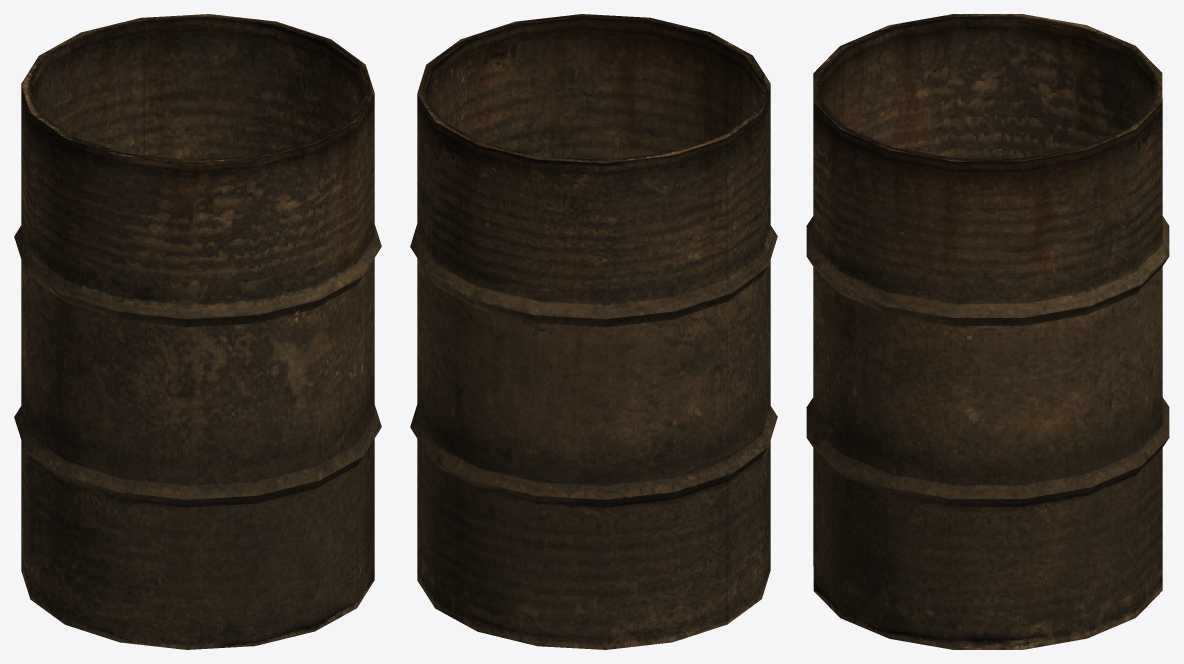
The model's file is metal_barrel_hr_4.glb.
The picture shows the model from 3 angles, left to right: view 1: azimuth 30°, elevation 25°; view 2: azimuth 150°, elevation 25°; view 3: azimuth 270°, elevation 25°; orthographic projection.
Visible parts, largest first — view 1: metal_barrel_hr_4; view 2: metal_barrel_hr_4; view 3: metal_barrel_hr_4.
Part boxes in pixels (box(x1,y1,x2,y2)): metal_barrel_hr_4: box(14, 14, 381, 649); metal_barrel_hr_4: box(410, 14, 777, 649); metal_barrel_hr_4: box(806, 14, 1169, 649).
Bounding box in the file's own units: 0.6735 × 1 × 0.6735.
1 material, 1 textured.
